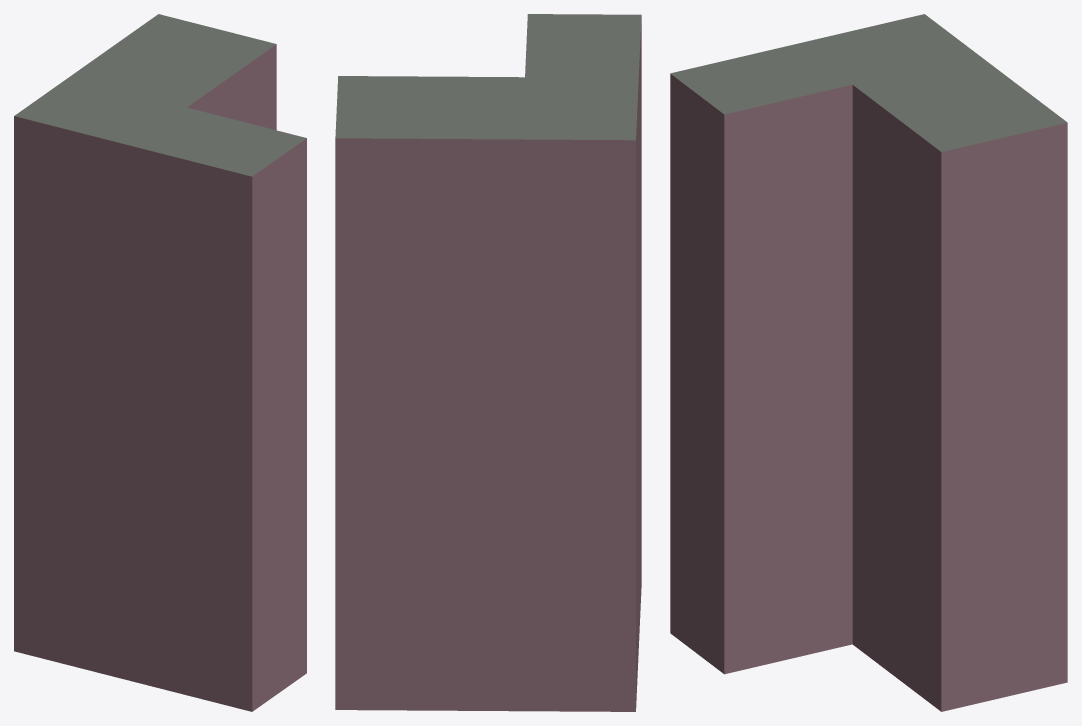
File: nyc-1022565-0.glb
3 views of the same model, side by side, from view 1: azimuth 30°, elevation 25°; view 2: azimuth 150°, elevation 25°; view 3: azimuth 270°, elevation 25° (orthographic). The views are drawn at different scales.
Parts seen in each view (by area): view 1: nyc-1022565-0; view 2: nyc-1022565-0; view 3: nyc-1022565-0.
Part boxes in pixels (bbox=[...]): nyc-1022565-0: bbox=[14, 14, 306, 711]; nyc-1022565-0: bbox=[335, 14, 641, 711]; nyc-1022565-0: bbox=[670, 14, 1067, 711].
Bounding box in the file's own units: 67.44 × 127 × 82.02.
